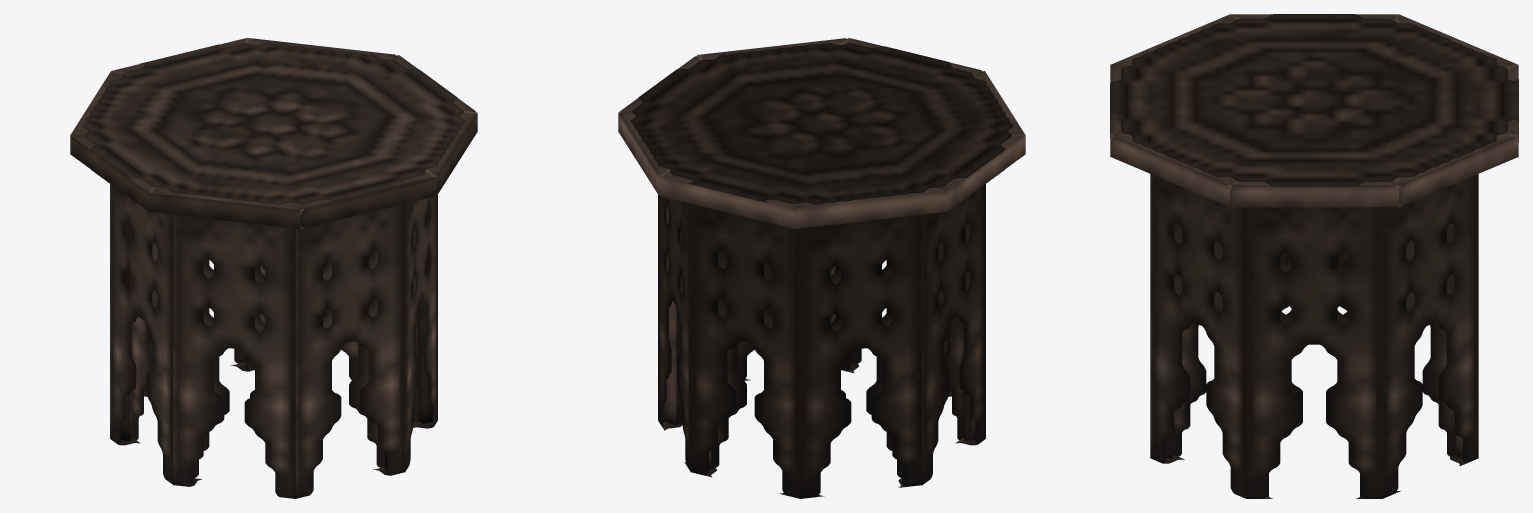
Rendered from arabic-table.obj.
3 views of the same model, side by side, from view 1: azimuth 30°, elevation 25°; view 2: azimuth 150°, elevation 25°; view 3: azimuth 270°, elevation 25° (orthographic). The views are drawn at different scales.
Visible parts, largest first — view 1: obj11, obj7, obj4, obj8, obj3, obj9, obj12, obj10, obj13, obj6, obj1; view 2: obj11, obj1, obj2, obj8, obj5, obj13, obj12, obj10, obj9, obj6, obj7; view 3: obj11, obj6, obj5, obj3, obj10, obj13, obj9, obj12.
Part boxes in pixels (x1,y1,x2,y2): obj11: [82, 42, 465, 220]; obj7: [173, 214, 295, 498]; obj4: [293, 203, 405, 498]; obj8: [110, 184, 173, 484]; obj3: [384, 195, 437, 472]; obj9: [149, 38, 397, 228]; obj12: [112, 38, 436, 228]; obj10: [70, 55, 475, 211]; obj13: [70, 71, 477, 195]; obj6: [415, 206, 437, 423]; obj1: [120, 222, 152, 440]; obj11: [630, 42, 1013, 222]; obj1: [800, 214, 922, 498]; obj2: [690, 204, 800, 498]; obj8: [922, 184, 985, 484]; obj5: [658, 195, 711, 471]; obj13: [697, 38, 946, 228]; obj12: [659, 38, 982, 228]; obj10: [618, 56, 1025, 211]; obj9: [618, 71, 1025, 195]; obj6: [663, 206, 680, 424]; obj7: [943, 222, 985, 440]; obj11: [1110, 14, 1518, 207]; obj6: [1246, 207, 1382, 498]; obj5: [1382, 174, 1478, 498]; obj3: [1150, 174, 1246, 498]; obj10: [1230, 14, 1398, 207]; obj13: [1110, 14, 1518, 207]; obj9: [1110, 14, 1518, 207]; obj12: [1110, 65, 1518, 156].
Bounding box in the file's own units: 1.13 × 1 × 1.13.
1 material, 1 textured.
